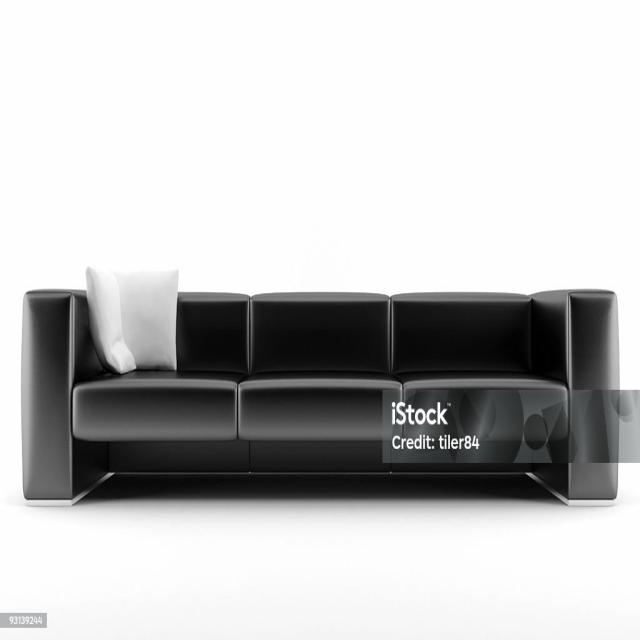back_cushion: (176, 293, 539, 373)
base: (108, 431, 529, 472)
left_arm: (556, 291, 619, 499)
right_arm: (21, 290, 107, 499)
seat_cushion: (72, 372, 578, 466)
stallion-sofa1: (21, 269, 639, 504)
